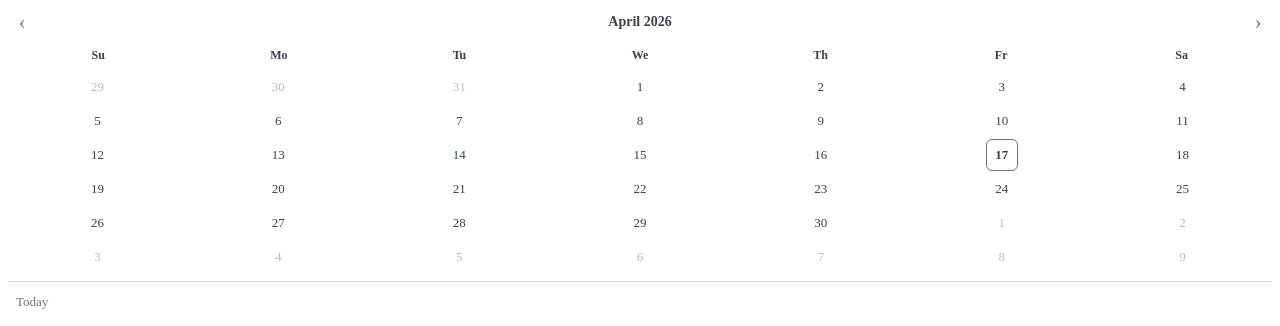
Test: BlocCalendarPanelComponent › selecting a month from month grid returns to day view
Click the button with class "bloc-dp-myb" at (640, 22), box top-left (36, 12), bottom-right (1244, 32)
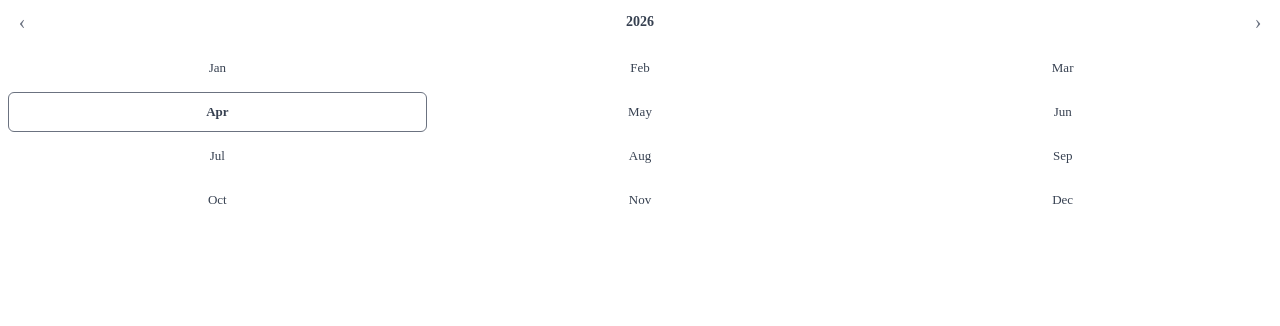
Click the button with class "bloc-dp-mc" showing "Jan" at (217, 68), box top-left (8, 48), bottom-right (427, 88)
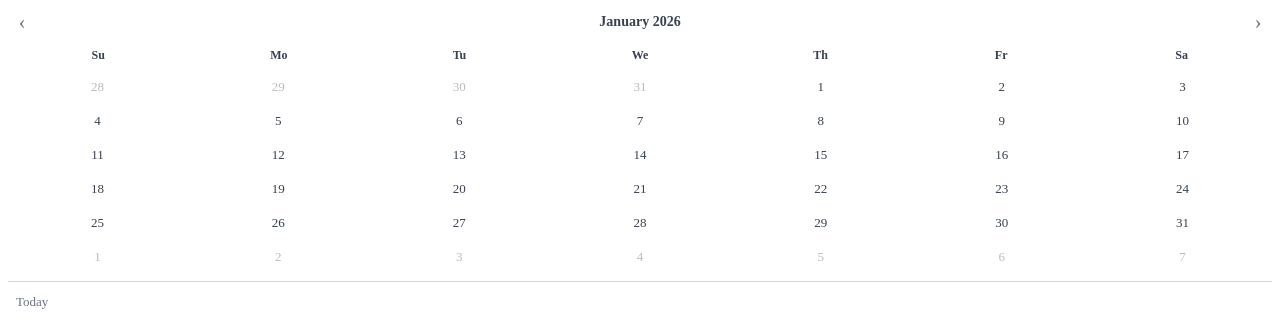
Result: the element with class "bloc-dp-days" is shown
